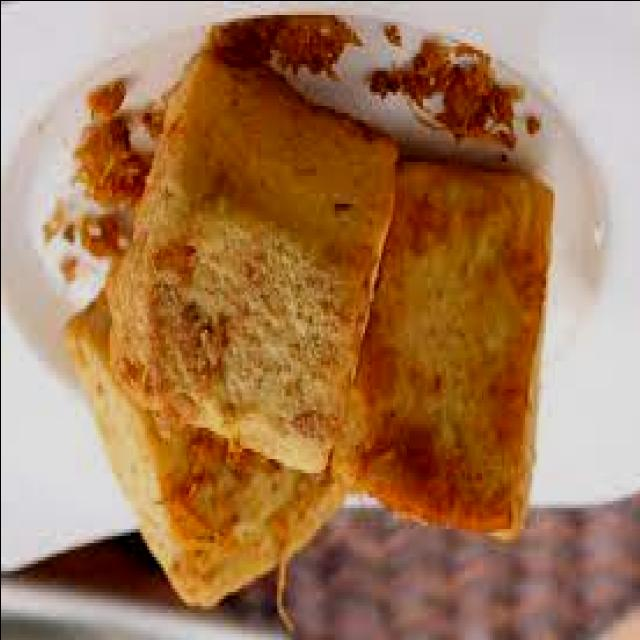tahu goreng: (100, 49, 399, 472), (336, 154, 554, 539)
